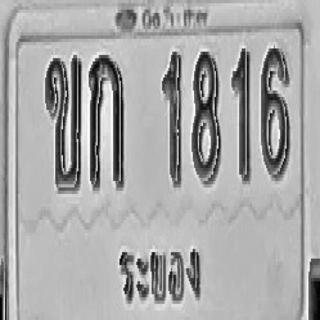A01: (88, 52, 124, 191)
A02: (45, 52, 82, 191)
N01: (161, 49, 182, 188), (231, 47, 251, 183)
N06: (261, 45, 289, 178)
N08: (192, 48, 221, 184)
P53: (114, 236, 206, 316)
